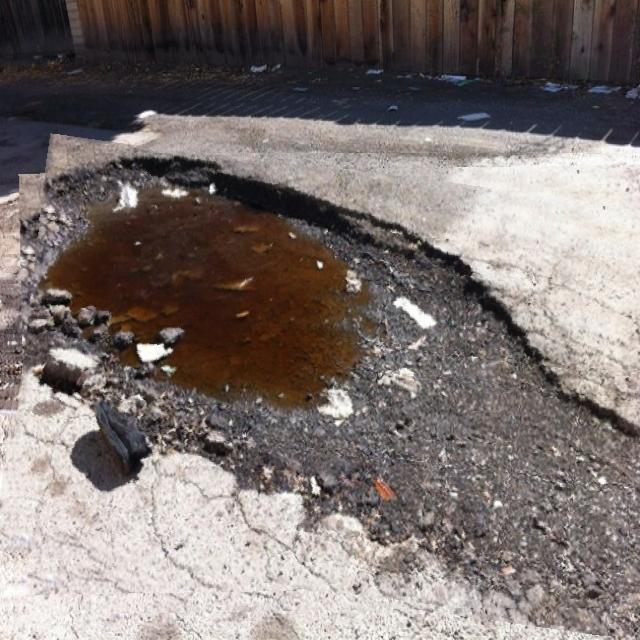Pothole: (5, 153, 640, 615)
